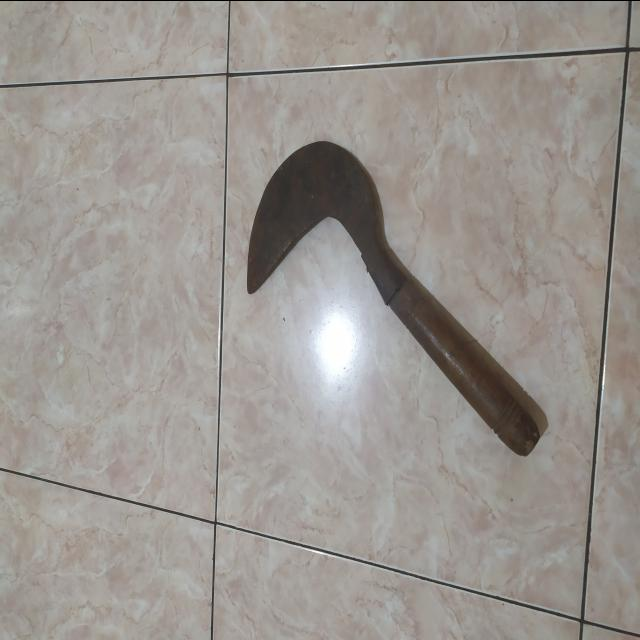Celurit: (246, 140, 542, 462)
